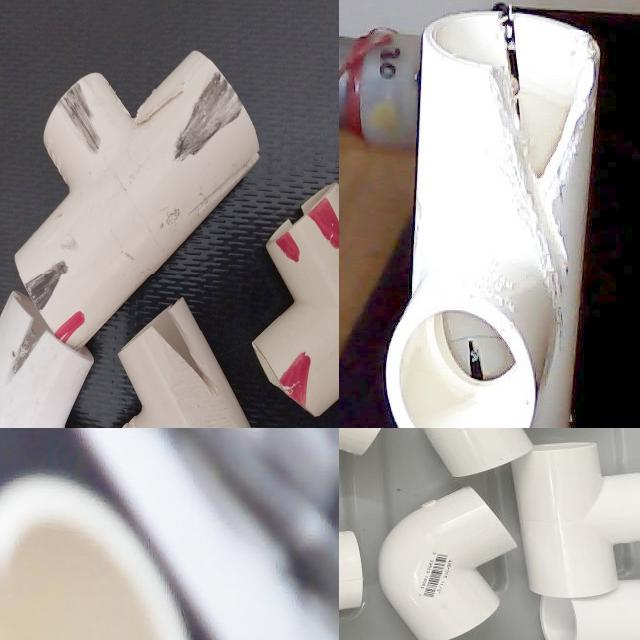Defective: (448, 2, 602, 290), (517, 60, 595, 313), (435, 322, 511, 409), (485, 73, 518, 186), (536, 258, 576, 314), (11, 284, 43, 349), (501, 20, 519, 95)
L Joint: (379, 487, 518, 640)
T Joint: (0, 275, 185, 428), (515, 445, 640, 599), (420, 428, 534, 480)
